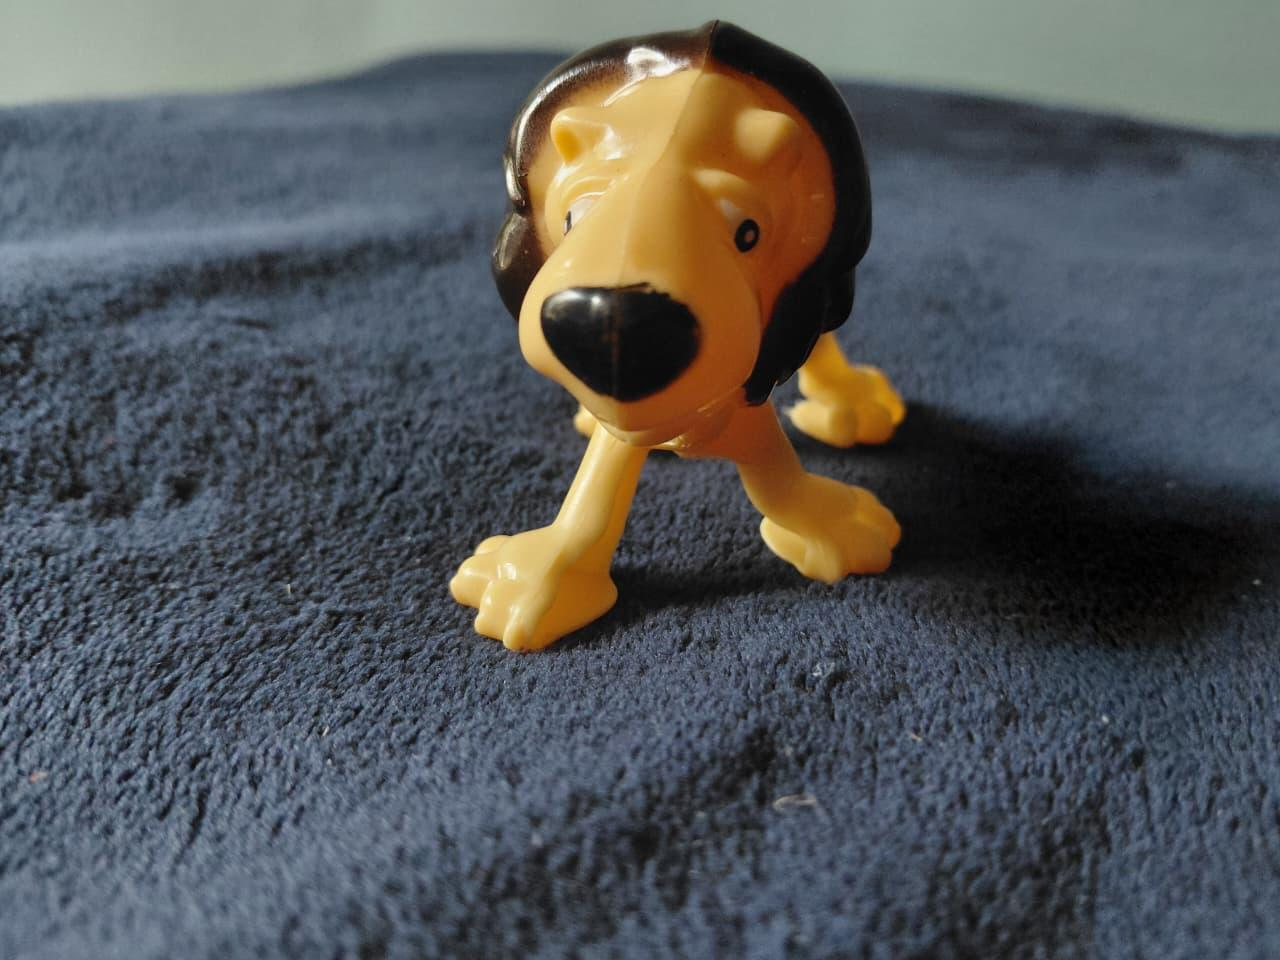lion: (440, 4, 923, 662)
